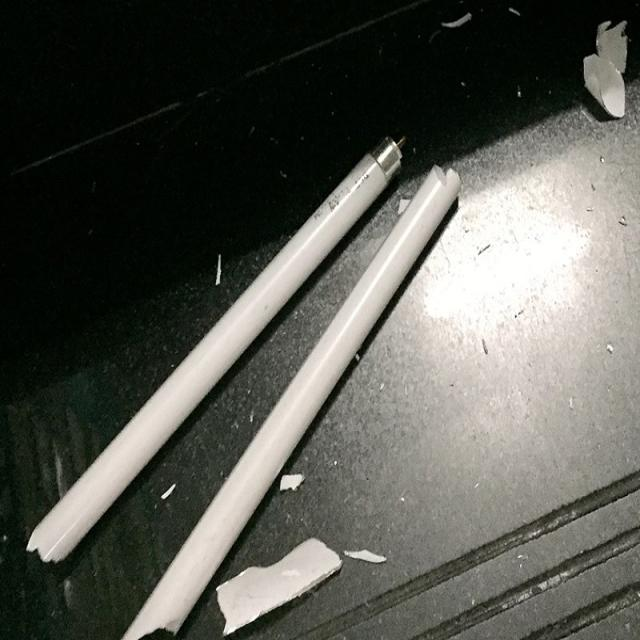bulb: (30, 114, 469, 624)
